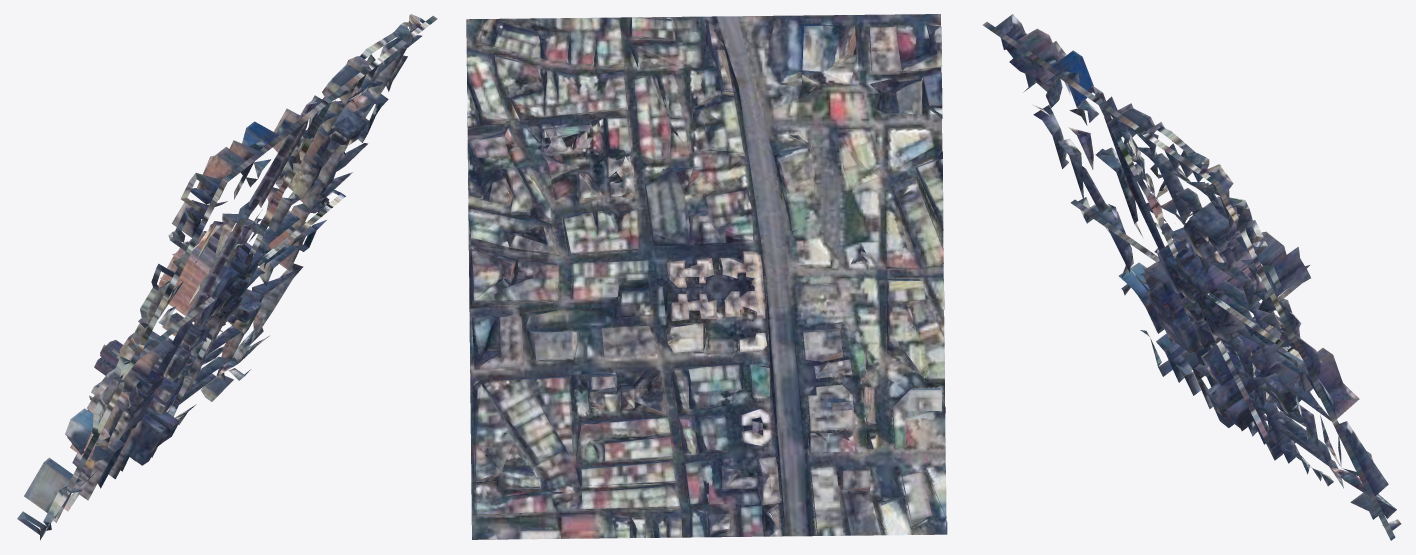
3 views of the same model, side by side, from view 1: azimuth 30°, elevation 25°; view 2: azimuth 150°, elevation 25°; view 3: azimuth 270°, elevation 25° (orthographic). The views are drawn at different scales.
Bounding box in the file's own units: 636 × 567 × 522.
2 materials, 2 textured.
